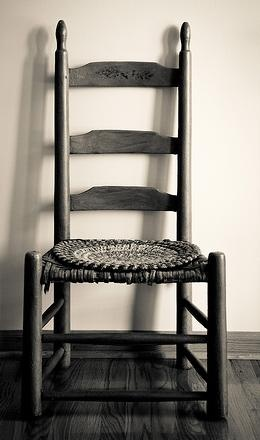obstacle: (22, 21, 226, 419)
